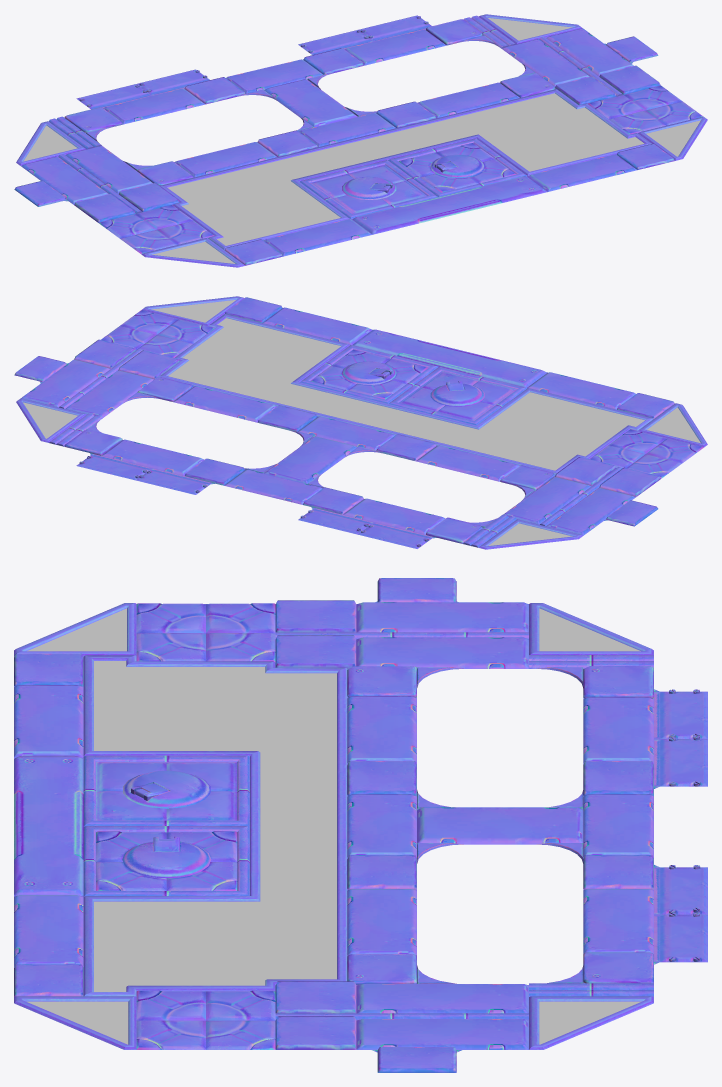
File: Building_C_Room_A_Floor_A.fbx
The picture shows the model from 3 angles, top to bottom: view 1: azimuth 30°, elevation 25°; view 2: azimuth 150°, elevation 25°; view 3: azimuth 270°, elevation 25°; orthographic projection. The views are drawn at different scales.
Parts seen in each view (by area): view 1: Geom_Building_C_Room_A_Floor_A_LOD00; view 2: Geom_Building_C_Room_A_Floor_A_LOD00; view 3: Geom_Building_C_Room_A_Floor_A_LOD00.
Boxes of the visible parts, left/top/right/bottom form: Geom_Building_C_Room_A_Floor_A_LOD00: left=14, top=14, right=707, bottom=267; Geom_Building_C_Room_A_Floor_A_LOD00: left=14, top=296, right=707, bottom=549; Geom_Building_C_Room_A_Floor_A_LOD00: left=14, top=578, right=707, bottom=1072.
Size of what is drawn, in the model's own units: 2800 by 28.56 by 1670.
